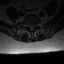CCS_normal: (31, 23, 32, 32)
LFS_severe_stenosis: (34, 22, 36, 28)
LLS_normal: (32, 23, 34, 31)
RFS_stenosis: (27, 23, 29, 28)
RLS_normal: (29, 23, 31, 30)
